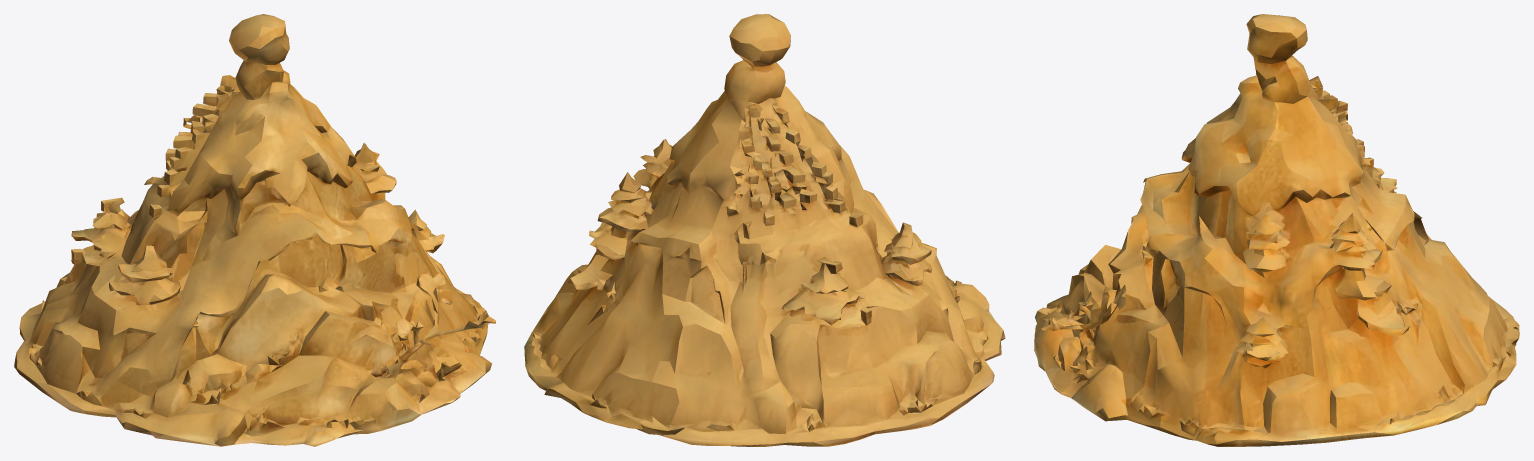
File: summit-gold.glb
3 renders of one model, left to right at view 1: azimuth 30°, elevation 25°; view 2: azimuth 150°, elevation 25°; view 3: azimuth 270°, elevation 25°, orthographic. The views are drawn at different scales.
Parts seen in each view (by area): view 1: geometry_0; view 2: geometry_0; view 3: geometry_0.
Part boxes in pixels (x1=…): geometry_0: x1=14, y1=14, x2=495, y2=446; geometry_0: x1=524, y1=14, x2=1005, y2=446; geometry_0: x1=1034, y1=14, x2=1519, y2=446.
Bounding box in the file's own units: 0.198 × 0.15 × 0.1974.
Materials: 1 (1 with a texture image).
